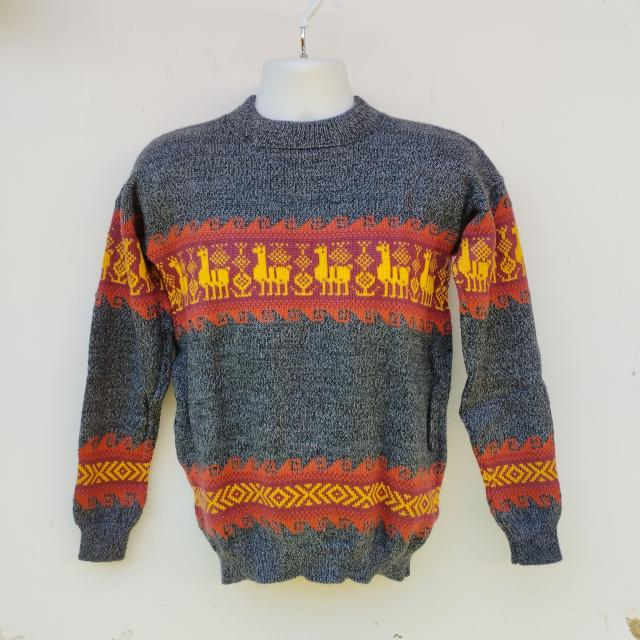Chompa: (72, 68, 563, 586)
